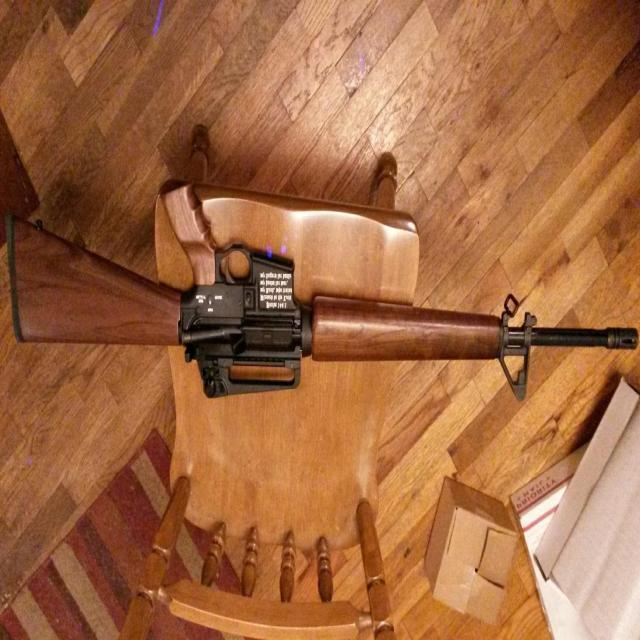weapon: (5, 216, 640, 399)
